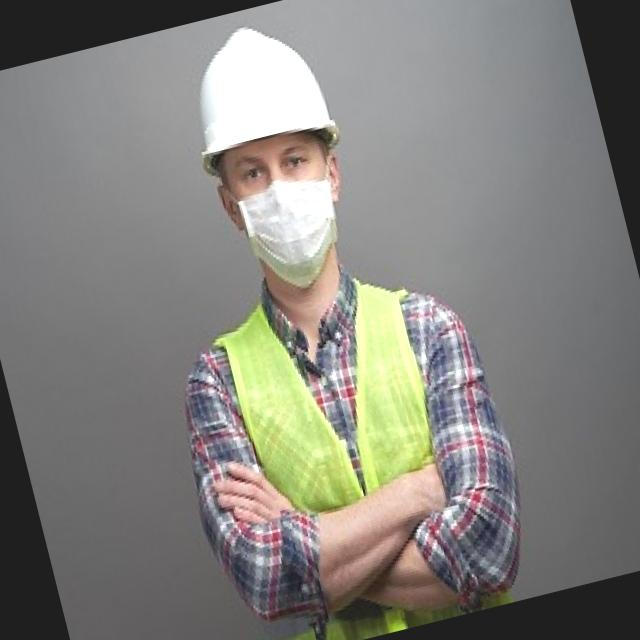helmet: (166, 5, 351, 184)
no-goggles: (224, 132, 324, 195)
vest: (176, 257, 505, 640)
